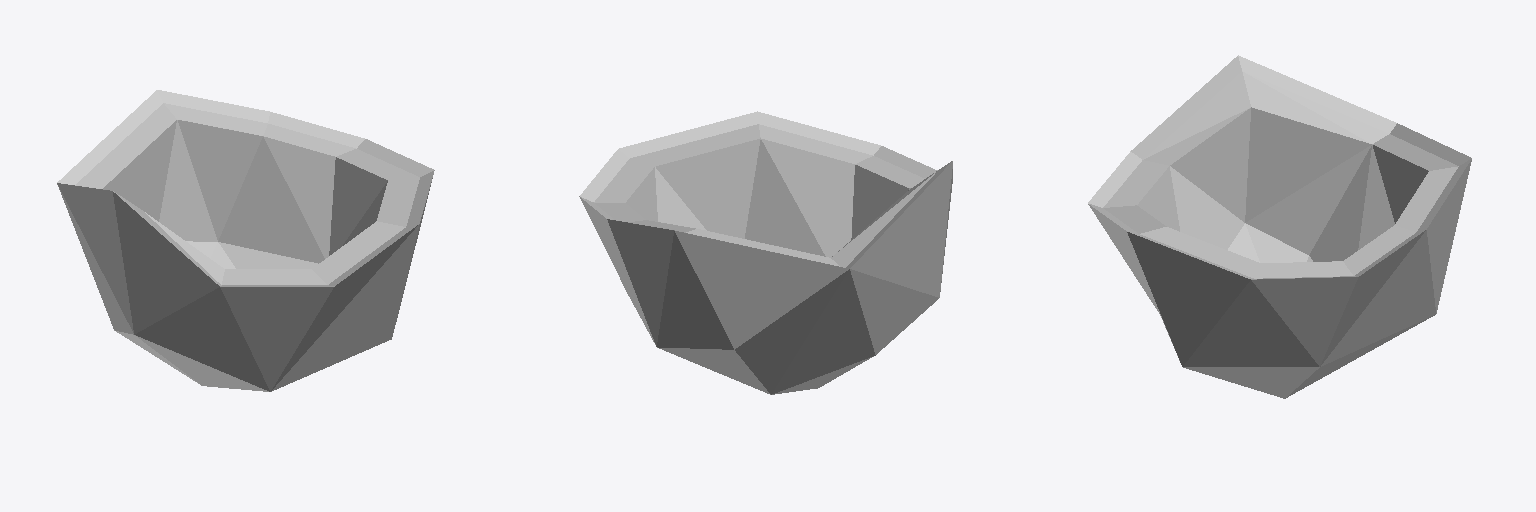
The model's file is coconut_bottom.obj.
3 renders of one model, left to right at view 1: azimuth 30°, elevation 25°; view 2: azimuth 150°, elevation 25°; view 3: azimuth 270°, elevation 25°, orthographic.
Visible parts, largest first — view 1: coconut_bottom; view 2: coconut_bottom; view 3: coconut_bottom.
Part boxes in pixels (x1,y1,x2,y2): coconut_bottom: (57,90,434,391); coconut_bottom: (579,111,952,394); coconut_bottom: (1088,55,1471,398).
Bounding box in the file's own units: 1.6 × 1.12 × 1.62.